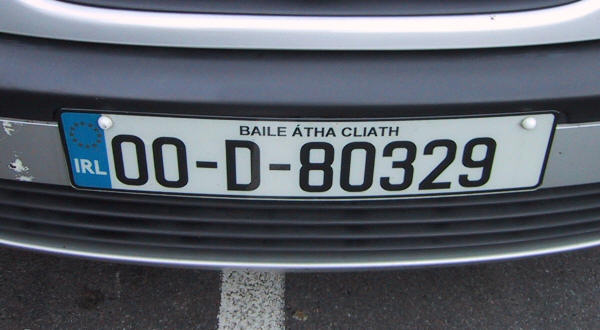license_plate: (57, 108, 558, 198)
